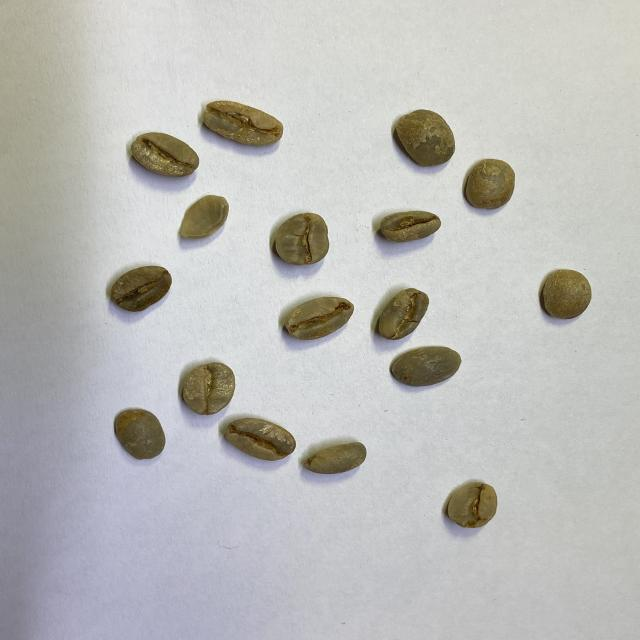bad: (271, 210, 331, 266), (284, 295, 354, 340), (378, 287, 431, 340), (447, 479, 499, 529), (178, 194, 229, 241), (305, 440, 370, 474), (380, 211, 442, 245)
good: (202, 99, 282, 147), (395, 109, 456, 167), (128, 132, 201, 180), (224, 418, 296, 462), (110, 263, 173, 312), (391, 345, 464, 386), (114, 408, 167, 462), (180, 362, 235, 414), (463, 157, 516, 210), (541, 268, 590, 321)
